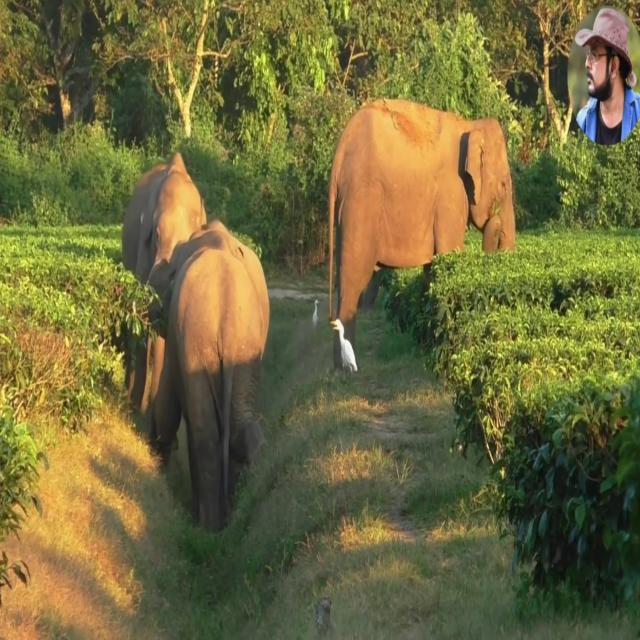Elephant: (327, 96, 516, 370), (145, 218, 270, 532), (121, 151, 208, 448)
